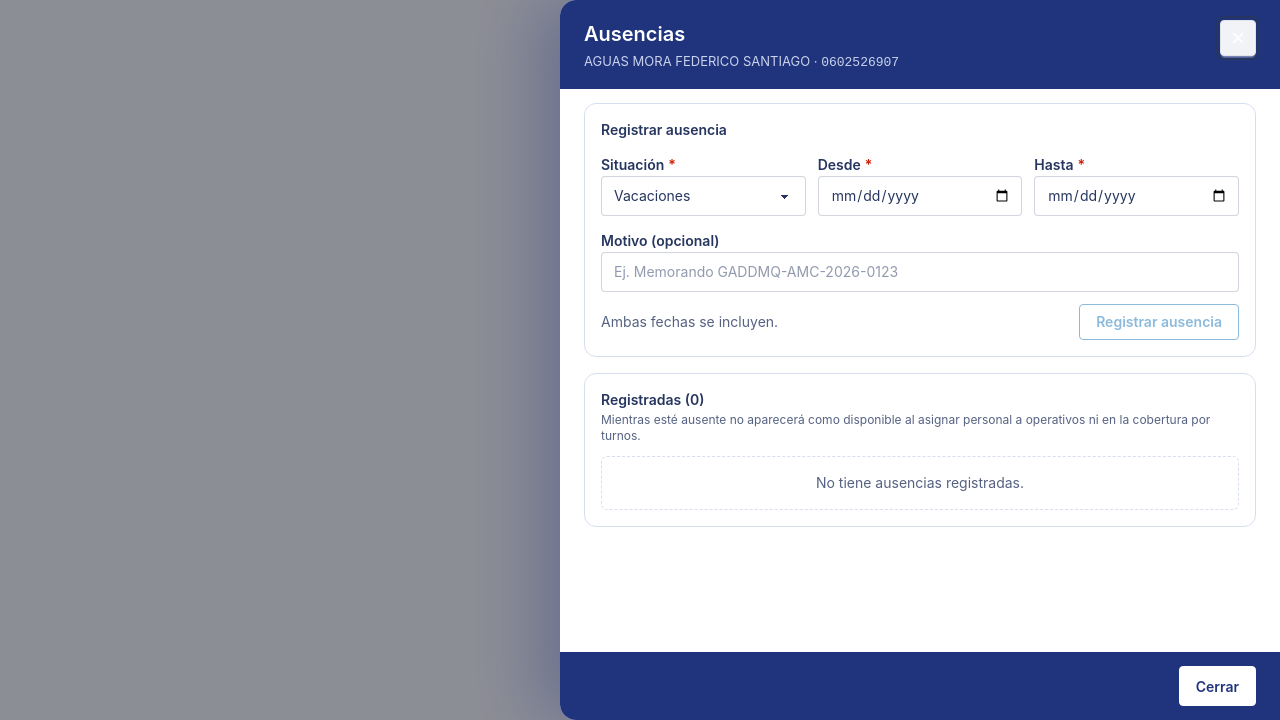
Ausencias · operativos ya asignados › con un rango válido, avisa del operativo que la ausencia NO retira
Type "2026-10-09" into the date field labelled "Desde*".
click(920, 196); type("2026-10-09")  # box [818, 176, 1022, 216]
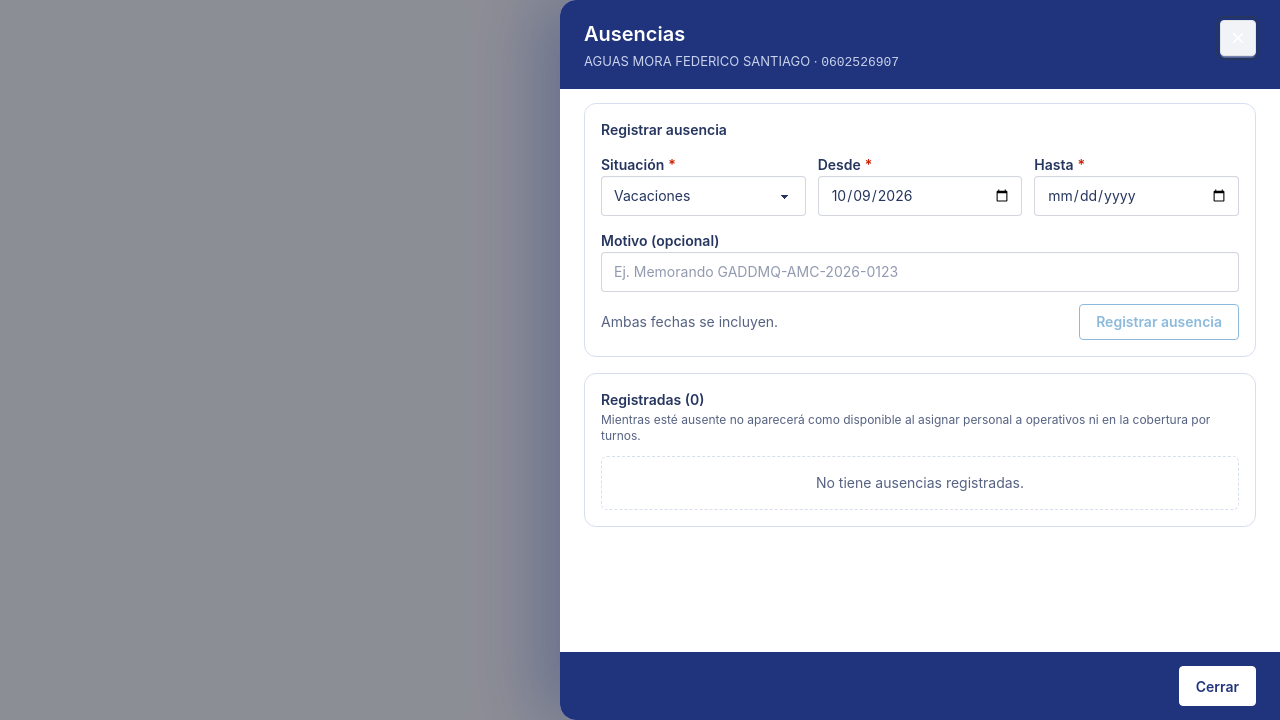
Type "2026-10-10" into the date field labelled "Hasta*".
click(1137, 196); type("2026-10-10")  # box [1034, 176, 1239, 216]
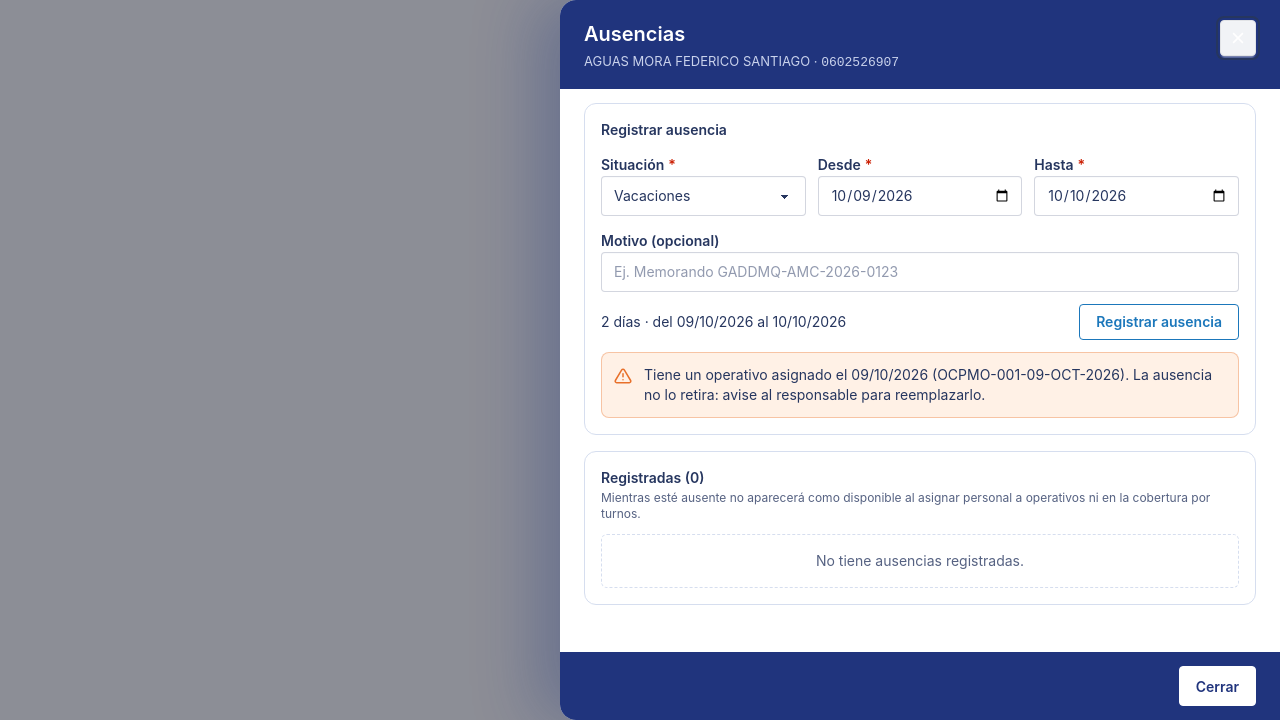
Check: the text "Tiene un operativo asignado el 09/10/2026 (OCPMO-001-09-OCT-2026). La ausencia no lo retira: avise al responsable para r" is shown, box [644, 366, 1212, 402]
